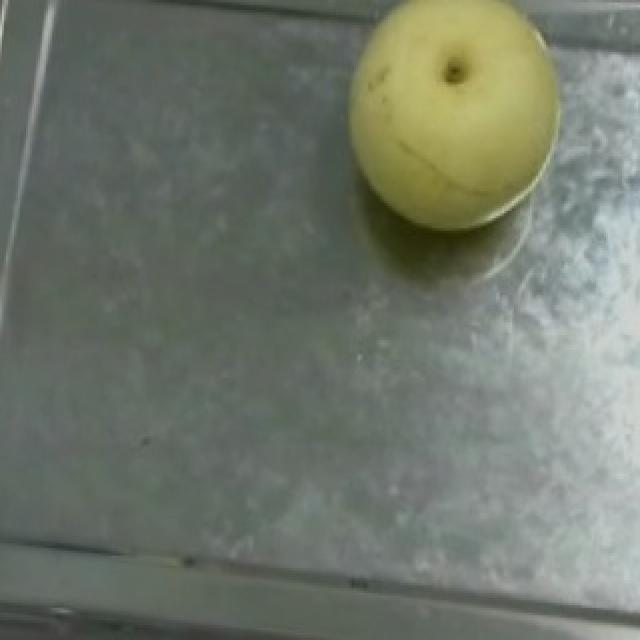Fruit: (324, 0, 582, 246)
